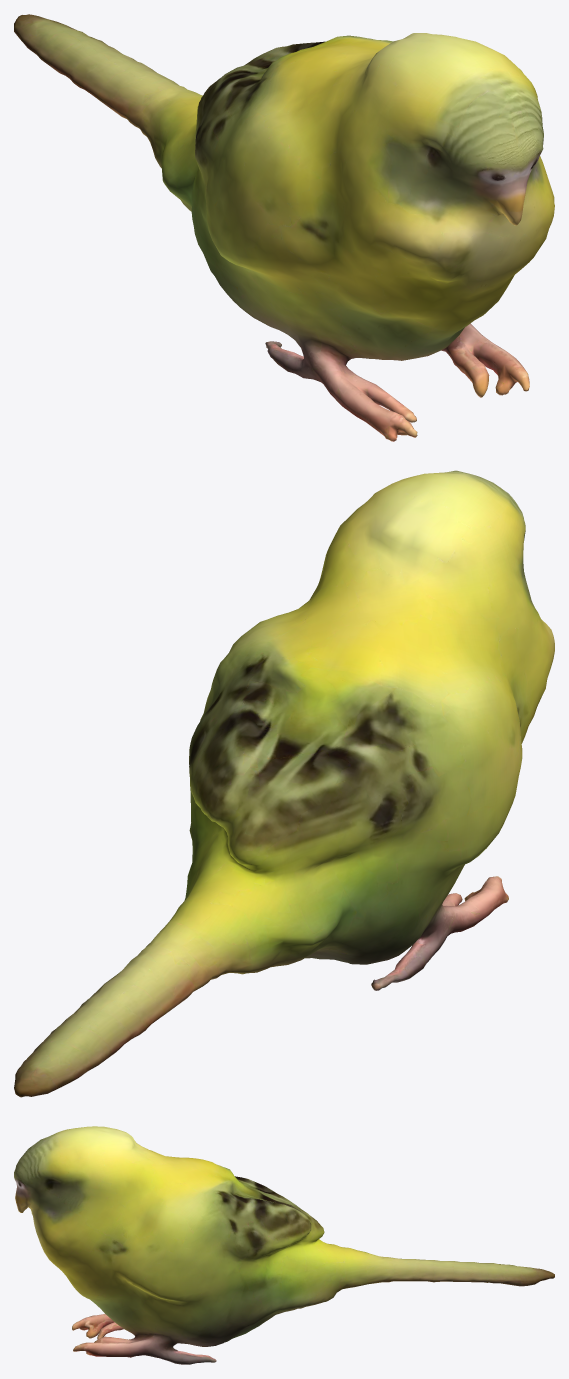
File: yellow.glb
3 renders of one model, top to bottom at view 1: azimuth 30°, elevation 25°; view 2: azimuth 150°, elevation 25°; view 3: azimuth 270°, elevation 25°, orthographic. The views are drawn at different scales.
Size of the model in its own units: 0.6144 by 0.8493 by 1.9.
Materials: 1 (1 with a texture image).
